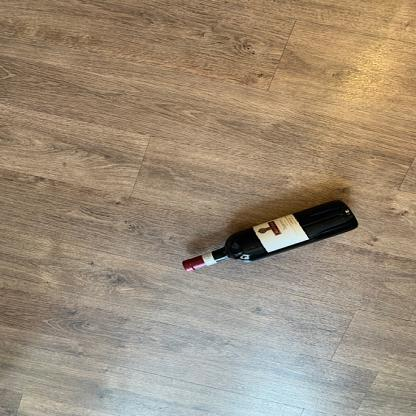trash: (178, 200, 362, 276)
